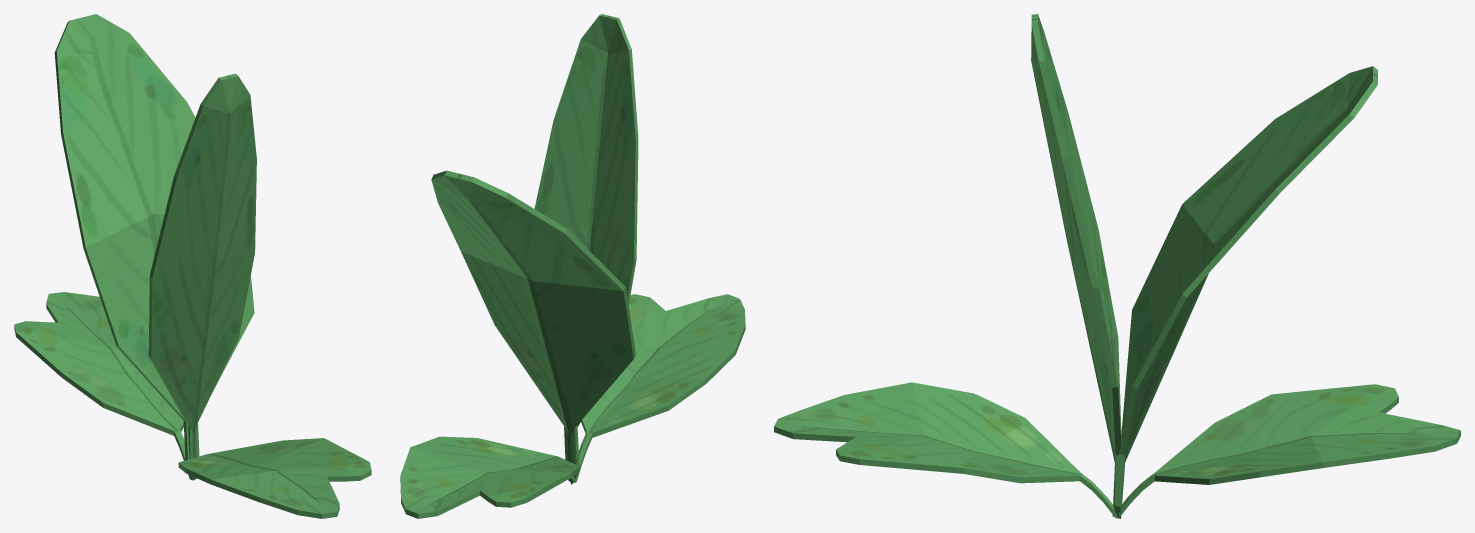
Rendered from CarrotStage1.fbx.
3 views of the same model, side by side, from view 1: azimuth 30°, elevation 25°; view 2: azimuth 150°, elevation 25°; view 3: azimuth 270°, elevation 25° (orthographic). The views are drawn at different scales.
Visible parts, largest first — view 1: bigleaf1, bigleaf2, smallLeaf1, smallLeaf1.001; view 2: bigleaf1, bigleaf2, smallLeaf1.001, smallLeaf1; view 3: bigleaf1, smallLeaf1.001, smallLeaf1, bigleaf2.
Part boxes in pixels (x1,y1,x2,y2): bigleaf1: [54, 14, 254, 479]; bigleaf2: [148, 73, 256, 479]; smallLeaf1: [14, 292, 193, 480]; smallLeaf1.001: [178, 438, 371, 518]; bigleaf1: [431, 170, 635, 484]; bigleaf2: [534, 14, 638, 426]; smallLeaf1.001: [573, 294, 745, 483]; smallLeaf1: [400, 436, 579, 518]; bigleaf1: [1114, 66, 1377, 518]; smallLeaf1.001: [774, 382, 1117, 518]; smallLeaf1: [1117, 384, 1460, 518]; bigleaf2: [1031, 14, 1121, 516].
Bounding box in the file's own units: 200 × 518 × 644.
